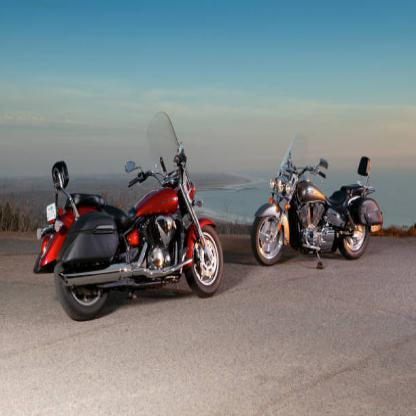Motorcycle: (33, 114, 225, 323), (249, 118, 388, 273)
